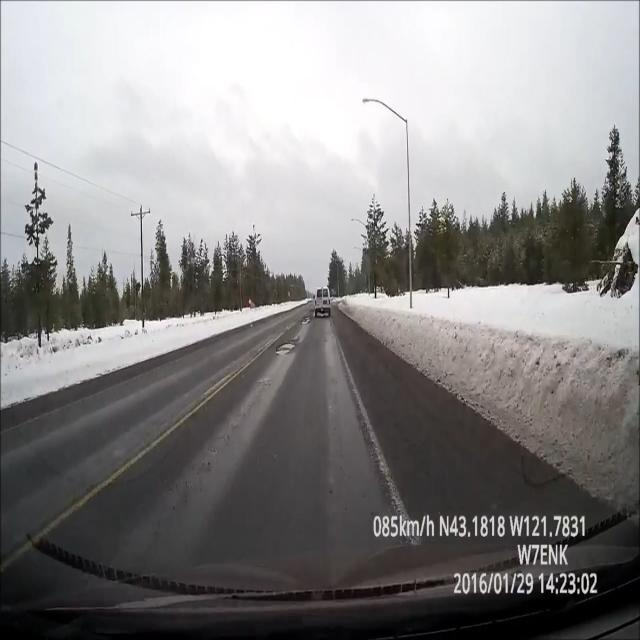Pothole: (271, 328, 301, 362)
